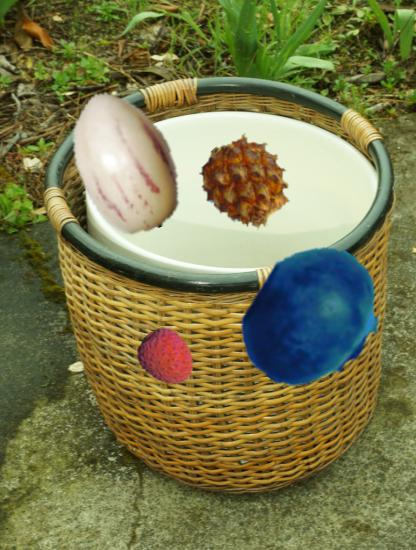Grape: (304, 286, 364, 346)
Huckleberry: (239, 244, 388, 393)
Lychee: (137, 328, 197, 388)
Pepino: (49, 86, 199, 236)
Pineapple: (200, 136, 293, 229)
